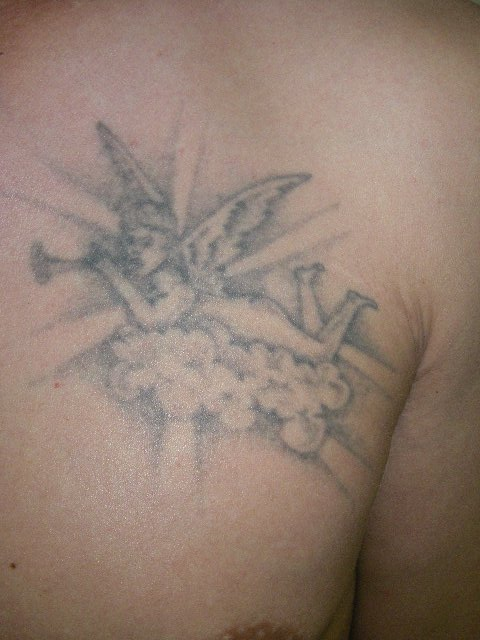tatu1_angel: (24, 94, 376, 383)
